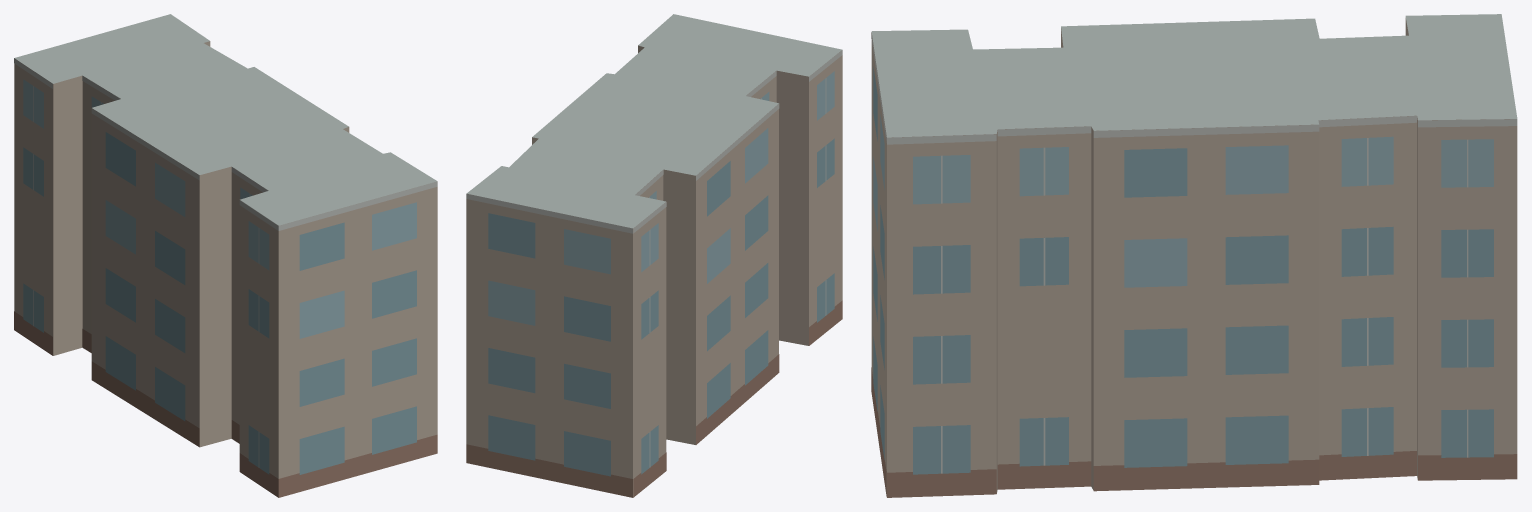
File: survey-upis-32874537.glb
The picture shows the model from 3 angles, left to right: view 1: azimuth 30°, elevation 25°; view 2: azimuth 150°, elevation 25°; view 3: azimuth 270°, elevation 25°; orthographic projection. The views are drawn at different scales.
Visible parts, largest first — view 1: survey-upis-32874537.tmp; view 2: survey-upis-32874537.tmp; view 3: survey-upis-32874537.tmp.
Boxes of the visible parts, x1,y1,x2,y2 form: survey-upis-32874537.tmp: [14, 14, 437, 497]; survey-upis-32874537.tmp: [466, 14, 842, 497]; survey-upis-32874537.tmp: [871, 14, 1517, 497].
Size of the model in its own units: 9.13 by 12.4 by 20.16.
